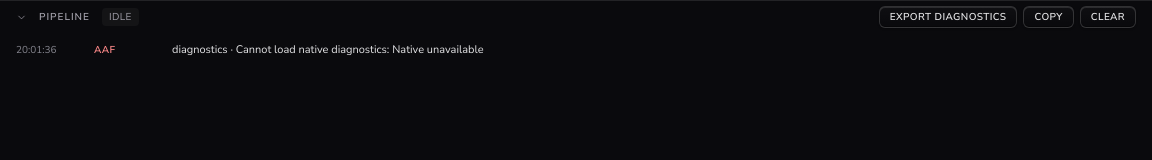
Test: shows native-log and export failures and still offers a fallback report
Expected: the text "Cannot load native diagnostics" is shown, [172, 42, 484, 57]
Click the button "Export diagnostics". click: (948, 17)
box: [879, 6, 1017, 28]
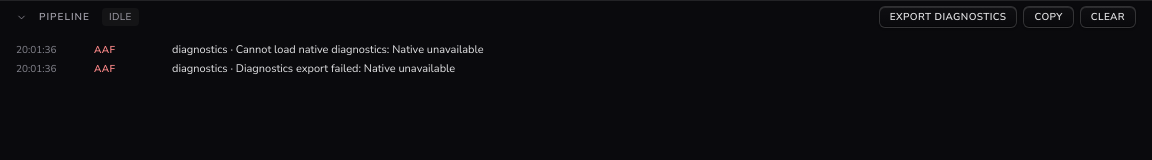
Expected: the text "diagnostics · Diagnostics export failed: Native unavailable" is shown, [172, 60, 455, 76]
